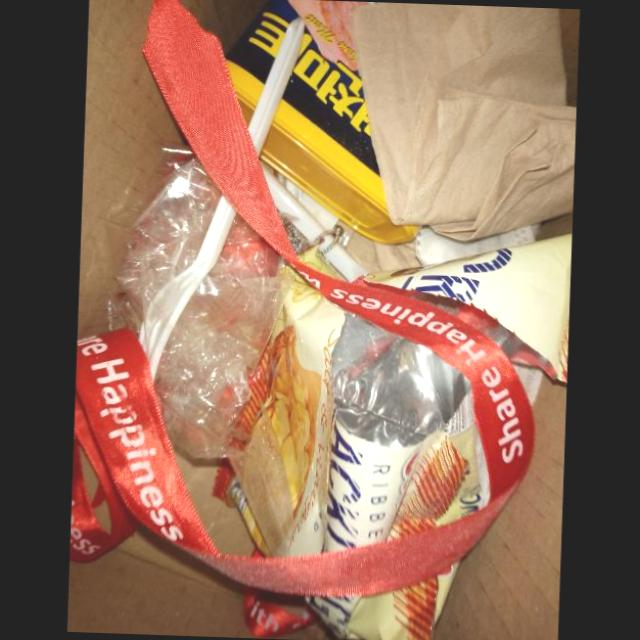bao_bi_thuc_pham: (212, 276, 489, 557), (362, 238, 571, 385), (304, 560, 459, 640)
giay: (349, 2, 576, 242)
hop_nhua: (225, 0, 421, 244)
tui_ni_long: (129, 158, 280, 463)
